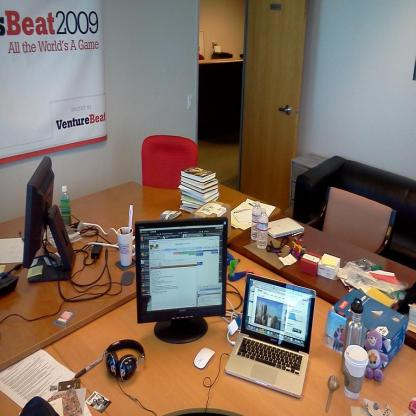board: (230, 278, 314, 384), (343, 298, 364, 373), (257, 208, 268, 249), (60, 184, 70, 226), (252, 202, 260, 239)
